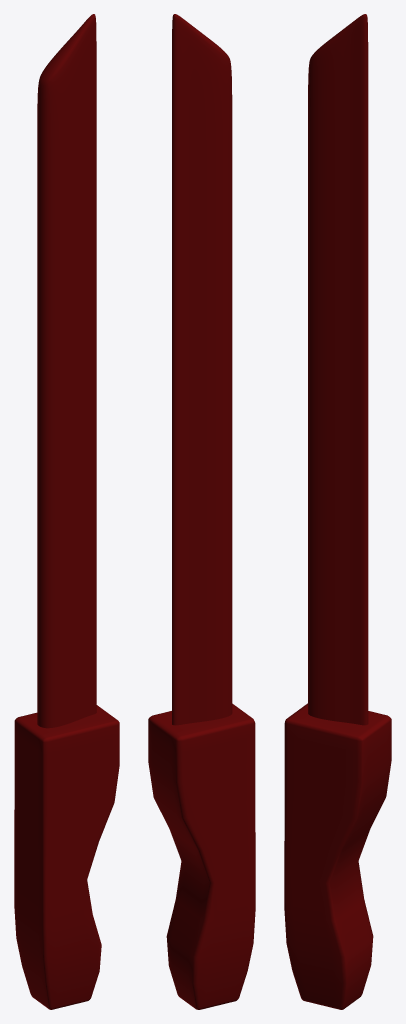
File: knife2.fbx
3 views of the same model, side by side, from view 1: azimuth 30°, elevation 25°; view 2: azimuth 210°, elevation 25°; view 3: azimuth 330°, elevation 25° (orthographic).
Parts seen in each view (by area): view 1: pCube1, pCube2; view 2: pCube1, pCube2; view 3: pCube1, pCube2.
Boxes of the visible parts, bbox=[...] form: pCube1: bbox=[37, 14, 96, 728]; pCube2: bbox=[14, 705, 119, 1009]; pCube1: bbox=[172, 14, 232, 725]; pCube2: bbox=[148, 703, 255, 1009]; pCube1: bbox=[308, 14, 368, 725]; pCube2: bbox=[284, 703, 391, 1009].
Bounding box in the file's own units: 0.4368 × 5.26 × 0.3014.
